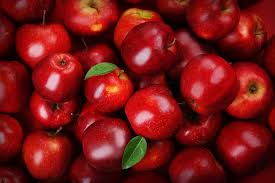apple: (126, 16, 183, 75), (123, 85, 186, 136), (180, 58, 238, 113), (227, 61, 270, 120), (82, 64, 132, 113), (215, 123, 268, 169), (32, 55, 79, 104), (112, 11, 162, 57), (80, 120, 131, 165), (19, 22, 71, 66), (22, 128, 69, 174), (28, 90, 76, 127), (169, 148, 220, 180)
